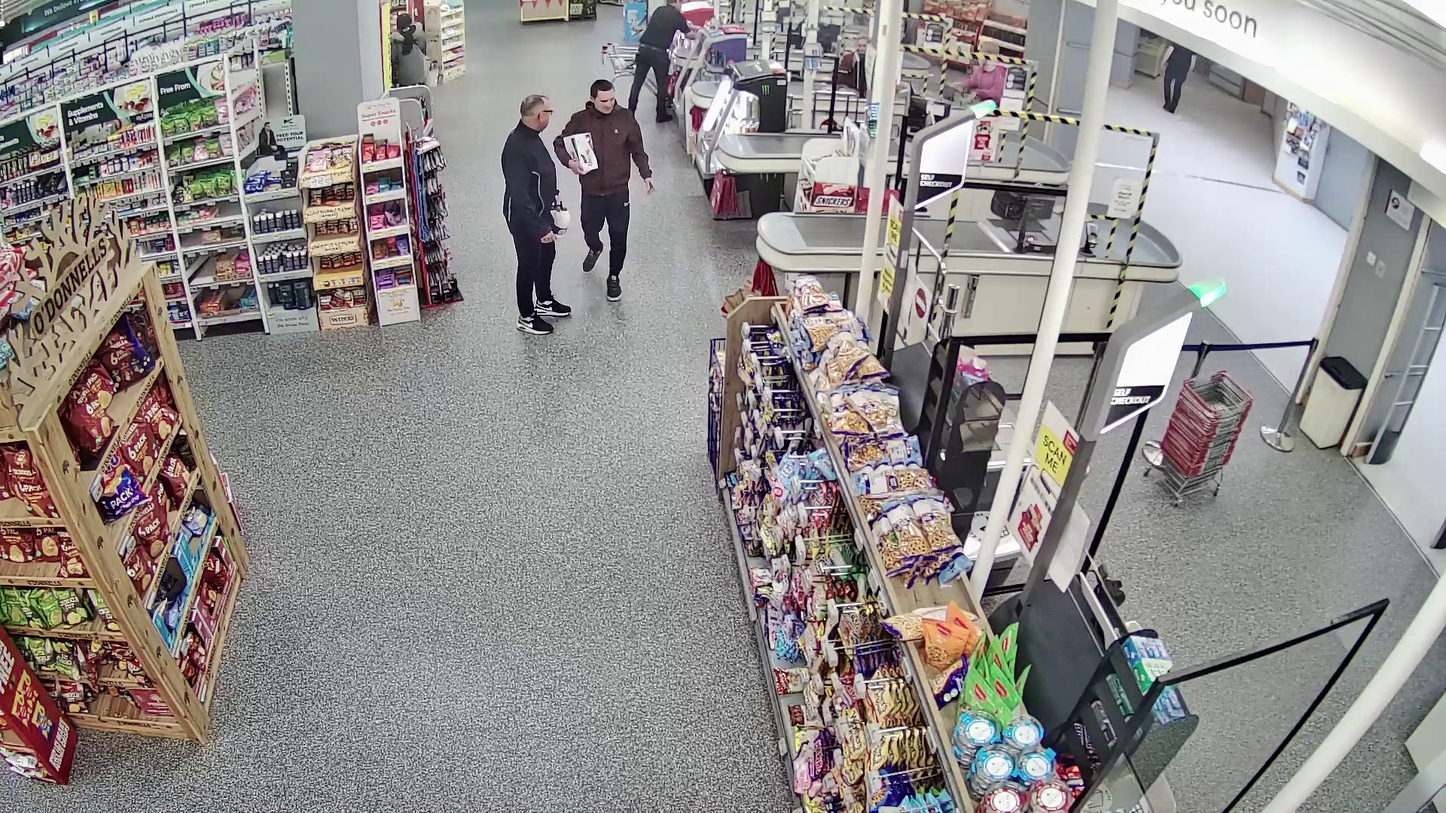carrying-item: (561, 132, 600, 176), (550, 204, 570, 242)
person: (553, 80, 657, 302), (500, 94, 571, 335)
person-with-carrying-item: (553, 80, 657, 303), (501, 93, 572, 333)
